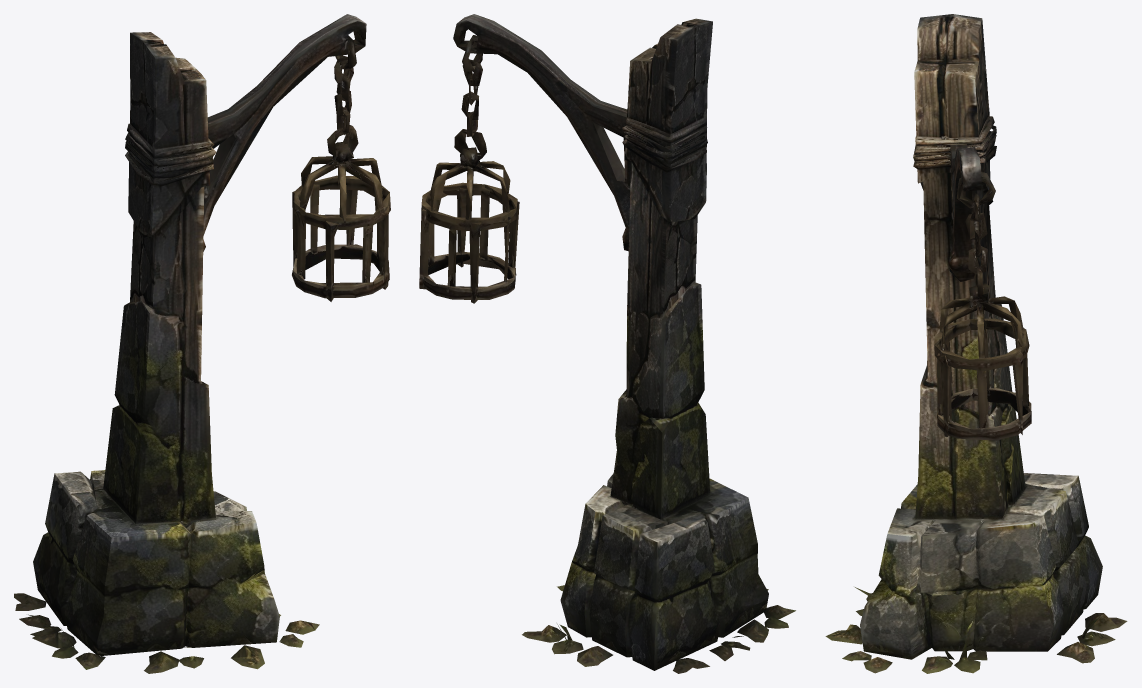
Rendered from act1_kit_v1_bog_lure_post.glb.
3 views of the same model, side by side, from view 1: azimuth 30°, elevation 25°; view 2: azimuth 150°, elevation 25°; view 3: azimuth 270°, elevation 25° (orthographic). The views are drawn at different scales.
Parts seen in each view (by area): view 1: A06_4_bog_lure_post; view 2: A06_4_bog_lure_post; view 3: A06_4_bog_lure_post.
Part boxes in pixels (x1,y1,x2,y2): A06_4_bog_lure_post: [14, 14, 390, 673]; A06_4_bog_lure_post: [419, 14, 795, 673]; A06_4_bog_lure_post: [825, 14, 1127, 673].
Size of the model in its own units: 0.6165 by 1 by 0.4577.
Materials: 1 (1 with a texture image).
